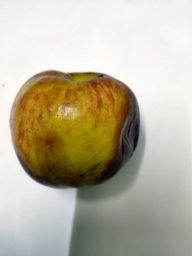Apple Semirotten: (0, 51, 155, 192)
